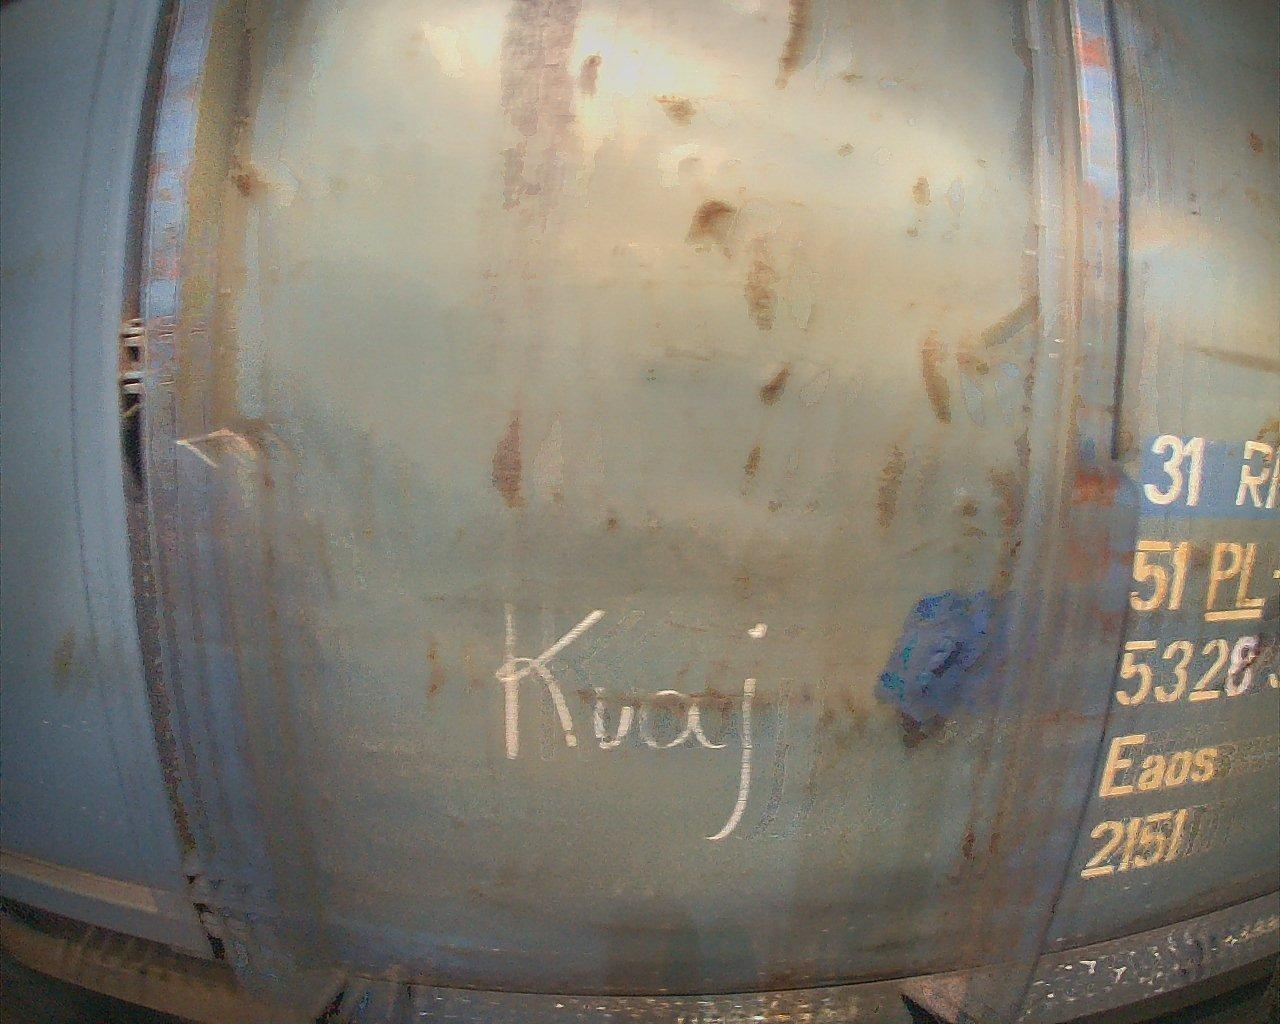UIC: (1078, 430, 1280, 893)
